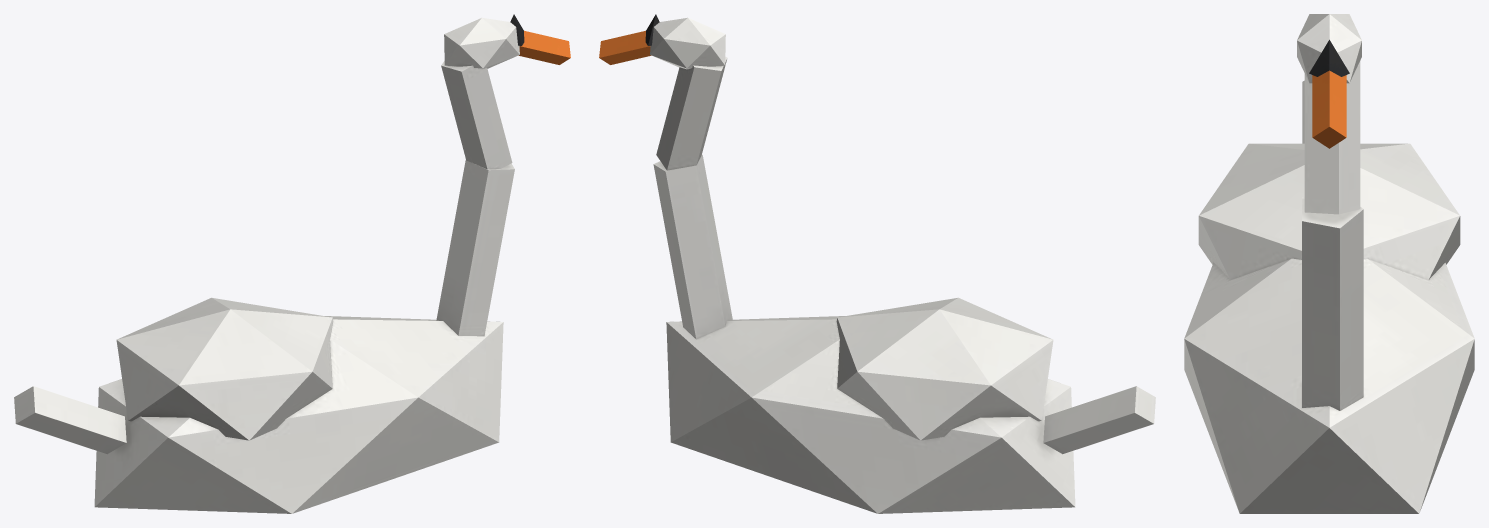
The model's file is svan_tex.glb.
3 renders of one model, left to right at view 1: azimuth 30°, elevation 25°; view 2: azimuth 150°, elevation 25°; view 3: azimuth 270°, elevation 25°, orthographic. The views are drawn at different scales.
Visible parts, largest first — view 1: svan; view 2: svan; view 3: svan.
Part boxes in pixels (x1,y1,x2,y2): svan: (14,14,570,513); svan: (599,14,1155,513); svan: (1184,14,1474,513).
Bounding box in the file's own units: 1.21 × 0.936 × 0.4253.
Materials: 3 (3 with a texture image).
